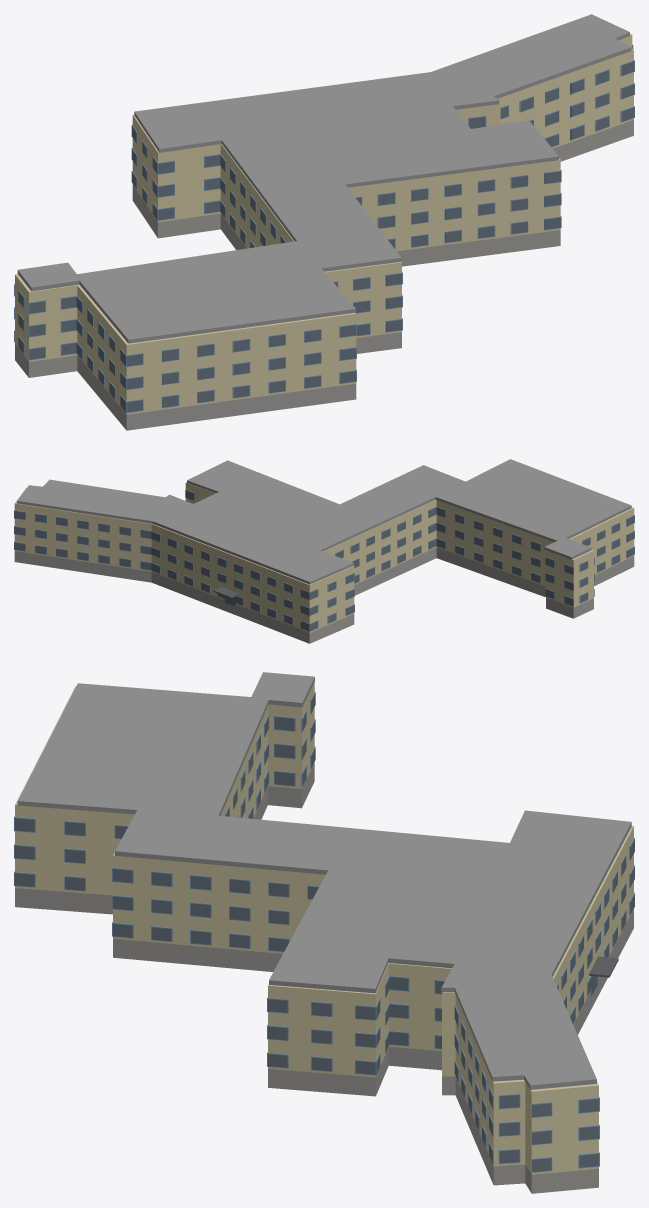
Rendered from landmark-kandern-august-macke-schule.glb.
The picture shows the model from 3 angles, top to bottom: view 1: azimuth 30°, elevation 25°; view 2: azimuth 150°, elevation 25°; view 3: azimuth 270°, elevation 25°; orthographic projection. The views are drawn at different scales.
Parts seen in each view (by area): view 1: building; view 2: building; view 3: building.
Boxes of the visible parts, left/top/right/bottom form: building: left=14, top=14, right=634, bottom=430; building: left=14, top=459, right=634, bottom=643; building: left=14, top=672, right=634, bottom=1193.
Bounding box in the file's own units: 117 × 13.99 × 73.81.
